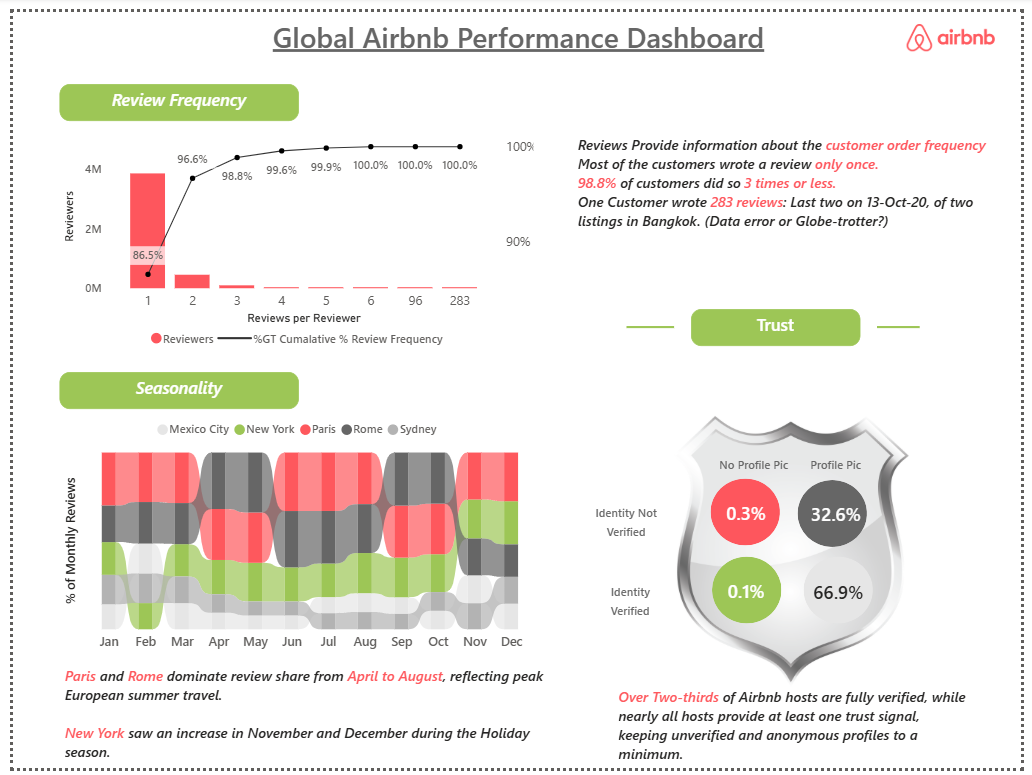

This screenshot's page, from the dashboard's own definition file:
{"tool":"powerbi","page":{"name":"Reviews","canvas":[960,720],"ordinal":2},"visuals":[{"type":"textbox","box":[221.4,0,520,51.4],"z":0},{"type":"shape","box":[664.4,444.4,66.2,63.8],"z":0,"group":"g1"},{"type":"shape","box":[665.6,518.9,66.2,63.8],"z":0,"group":"g3"},{"type":"shape","box":[751.7,518.9,66.2,63.8],"z":0,"group":"g4"},{"type":"image","box":[845,11.2,95,26.2],"z":1000},{"type":"cardVisual","fields":{"Data":["Listings.NotVerfied_NoProfile %"]},"box":[644.4,444.4,108.8,63.8],"z":1000,"group":"g1"},{"type":"cardVisual","fields":{"Data":["Listings.Verified_Profile %"]},"box":[726.7,508.9,118.8,85],"z":1000,"group":"g4"},{"type":"cardVisual","fields":{"Data":["Listings.Verified_NoProfile %"]},"box":[654.4,518.9,88.8,63.8],"z":1000,"group":"g3"},{"type":"textbox","box":[43.8,68.7,228,35.1],"z":2000},{"type":"textbox","box":[533,111,415,107],"z":3000},{"type":"textbox","box":[645.4,282.5,161.2,35],"z":5000},{"type":"shape","box":[584.2,271.4,45.5,57.3],"z":6000},{"type":"shape","box":[822.3,271.4,40.9,57.3],"z":7000},{"type":"textbox","box":[44,617,466,102],"z":8000},{"type":"shape","box":[748.3,445.5,66.2,63.8],"z":8005,"group":"g2"},{"type":"cardVisual","fields":{"Data":["Listings.NotVerfied_Profile %"]},"box":[703.3,406.7,162.5,138.8],"z":8011,"group":"g2"},{"type":"lineStackedColumnComboChart","fields":{"Y":["Reviews.Reviewers"],"Category":["Reviews.Reviews per Reviewer"],"Y2":["Reviews.Cumalative % Review Frequency"]},"box":[44,111,456,217],"z":9000},{"type":"image","box":[520.8,317.5,438.3,393.3],"z":10000},{"type":"group","id":"g1","title":"Group 1","box":[644.4,444.4,107.8,64.4],"z":11000},{"type":"group","id":"g2","title":"Group 2","box":[703.3,406.7,163.3,138.9],"z":12000},{"type":"group","id":"g3","title":"Group 3","box":[654.4,518.9,87.8,63.3],"z":13000},{"type":"group","id":"g4","title":"Group 4","box":[726.7,508.9,118.9,84.4],"z":14000},{"type":"textbox","box":[656.7,406.7,96.7,45.6],"z":15000},{"type":"textbox","box":[738.9,406.7,90,45.6],"z":16000},{"type":"textbox","box":[535.6,453.3,96.7,54.4],"z":17000},{"type":"textbox","box":[545.6,528.9,84.4,64.4],"z":18000},{"type":"ribbonChart","fields":{"Y":["Reviews.% of Monthly Reviews"],"Series":["Listings.city"],"Category":["Reviews.Review Month"]},"box":[44,378,456,239],"z":19000},{"type":"textbox","box":[44,343,228,35.1],"z":19001},{"type":"textbox","box":[571.7,637.5,342.5,82.5],"z":19002}]}

Visuals, with their boxes in screenshot pixels (x1, y1, x2, y2), scaled from the page's 960x720 canvas onto the 1032x775 screenshot:
textbox: pyautogui.locateOnScreen(238, 0, 797, 55)
shape: pyautogui.locateOnScreen(714, 478, 785, 547)
shape: pyautogui.locateOnScreen(716, 559, 787, 627)
shape: pyautogui.locateOnScreen(808, 559, 879, 627)
image: pyautogui.locateOnScreen(908, 12, 1010, 40)
cardVisual - Listings.NotVerfied_NoProfile %: pyautogui.locateOnScreen(693, 478, 810, 547)
cardVisual - Listings.Verified_Profile %: pyautogui.locateOnScreen(781, 548, 909, 639)
cardVisual - Listings.Verified_NoProfile %: pyautogui.locateOnScreen(703, 559, 799, 627)
textbox: pyautogui.locateOnScreen(47, 74, 292, 112)
textbox: pyautogui.locateOnScreen(573, 119, 1019, 235)
textbox: pyautogui.locateOnScreen(694, 304, 867, 342)
shape: pyautogui.locateOnScreen(628, 292, 677, 354)
shape: pyautogui.locateOnScreen(884, 292, 928, 354)
textbox: pyautogui.locateOnScreen(47, 664, 548, 774)
shape: pyautogui.locateOnScreen(804, 480, 876, 548)
cardVisual - Listings.NotVerfied_Profile %: pyautogui.locateOnScreen(756, 438, 931, 587)
lineStackedColumnComboChart - Reviews.Reviewers x Reviews.Reviews per Reviewer: pyautogui.locateOnScreen(47, 119, 538, 353)
image: pyautogui.locateOnScreen(560, 342, 1031, 765)
"Group 1" group: pyautogui.locateOnScreen(693, 478, 809, 548)
"Group 2" group: pyautogui.locateOnScreen(756, 438, 932, 587)
"Group 3" group: pyautogui.locateOnScreen(703, 559, 798, 627)
"Group 4" group: pyautogui.locateOnScreen(781, 548, 909, 639)
textbox: pyautogui.locateOnScreen(706, 438, 810, 487)
textbox: pyautogui.locateOnScreen(794, 438, 891, 487)
textbox: pyautogui.locateOnScreen(576, 488, 680, 546)
textbox: pyautogui.locateOnScreen(587, 569, 677, 639)
ribbonChart - Reviews.% of Monthly Reviews x Listings.city: pyautogui.locateOnScreen(47, 407, 538, 664)
textbox: pyautogui.locateOnScreen(47, 369, 292, 407)
textbox: pyautogui.locateOnScreen(615, 686, 983, 774)
